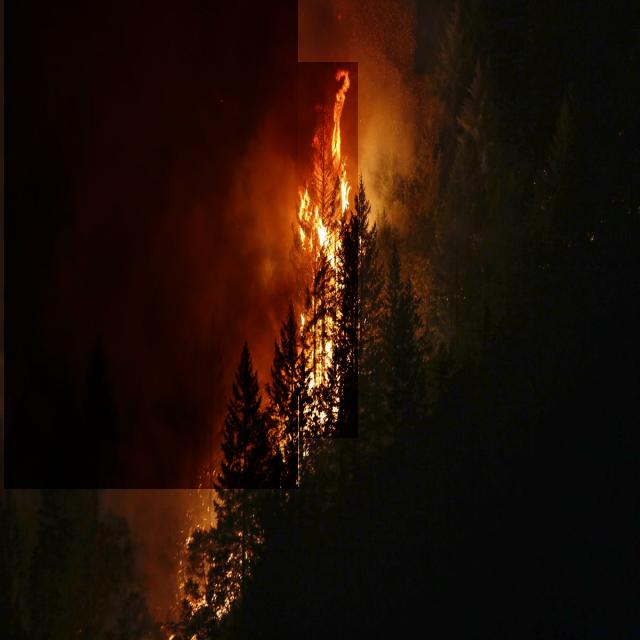Fire: (298, 62, 358, 438), (274, 396, 299, 487)
Smoke: (4, 0, 298, 489)
